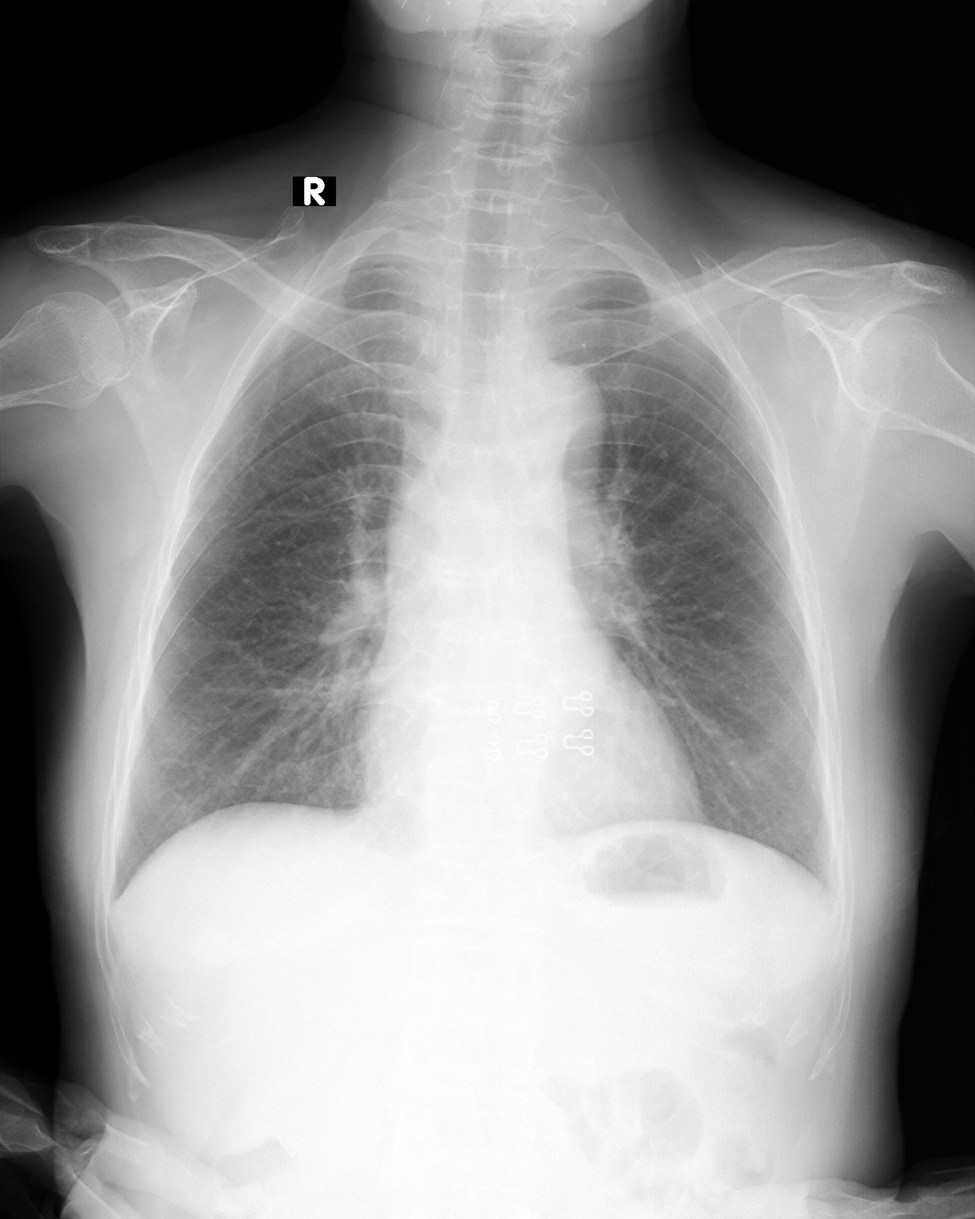Aortic enlargement: (501, 362, 603, 476)
